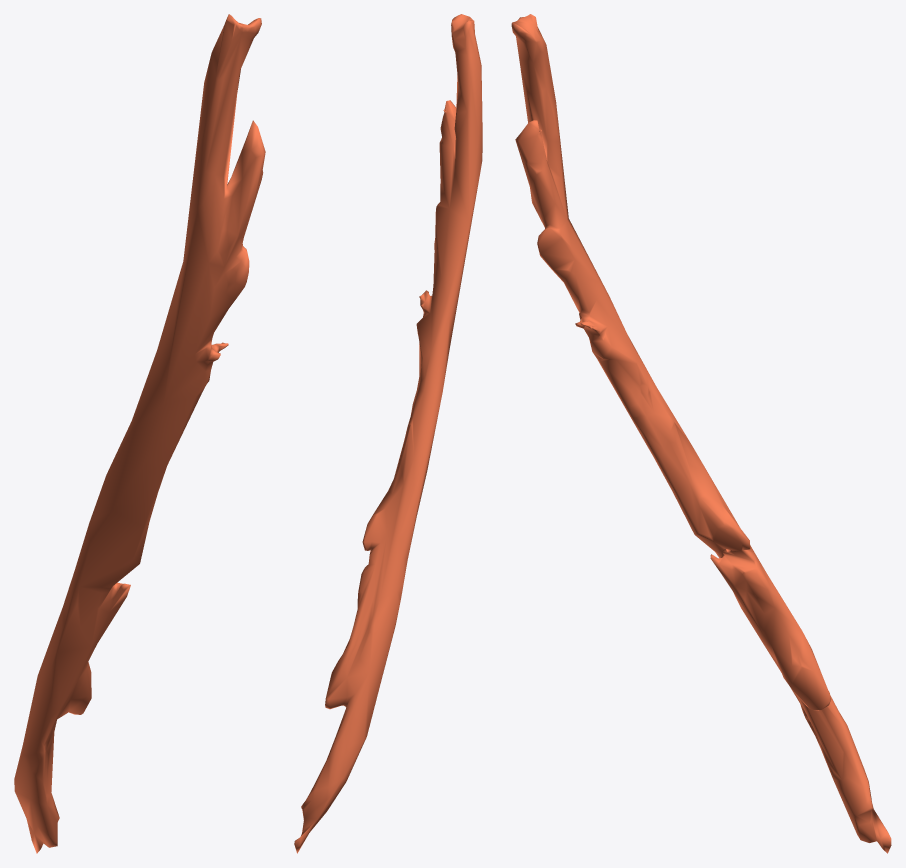
Rendered from Spinalis_colli_muscle.r_Generated_Mesh_From_X3D.208.glb.
3 views of the same model, side by side, from view 1: azimuth 30°, elevation 25°; view 2: azimuth 150°, elevation 25°; view 3: azimuth 270°, elevation 25° (orthographic). The views are drawn at different scales.
Visible parts, largest first — view 1: Spinalis_colli_muscle.r_Generated_Mesh_From_X3D.208; view 2: Spinalis_colli_muscle.r_Generated_Mesh_From_X3D.208; view 3: Spinalis_colli_muscle.r_Generated_Mesh_From_X3D.208.
Part boxes in pixels (x1,y1,x2,y2): Spinalis_colli_muscle.r_Generated_Mesh_From_X3D.208: (14, 14, 265, 853); Spinalis_colli_muscle.r_Generated_Mesh_From_X3D.208: (294, 14, 482, 853); Spinalis_colli_muscle.r_Generated_Mesh_From_X3D.208: (511, 14, 891, 853).
Bounding box in the file's own units: 0.0079 × 0.1058 × 0.0438.
